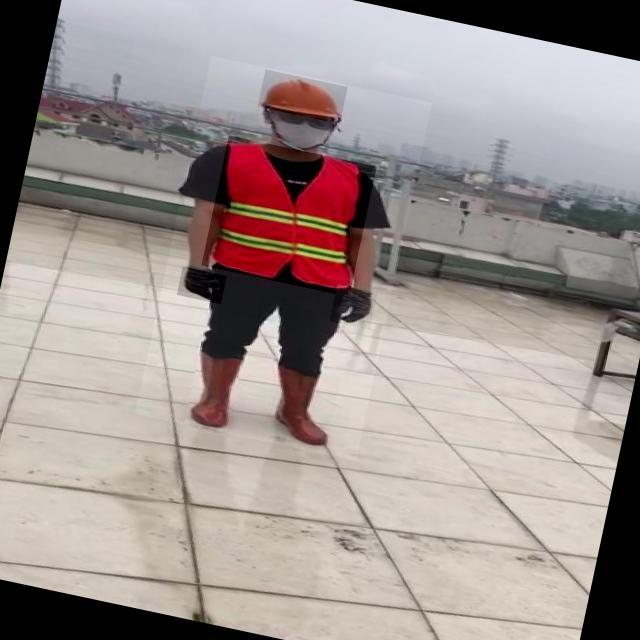Gloves: (329, 284, 377, 330), (176, 266, 226, 304)
Helmet: (258, 70, 348, 125)
Human: (135, 56, 432, 461)
Safety Boot: (261, 363, 341, 449), (183, 351, 242, 433)
Safety Vest: (201, 135, 376, 296)
